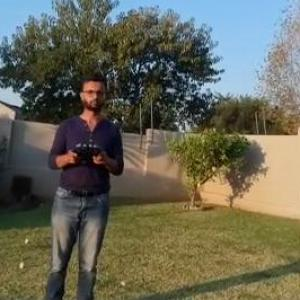follow: (35, 66, 130, 299)
